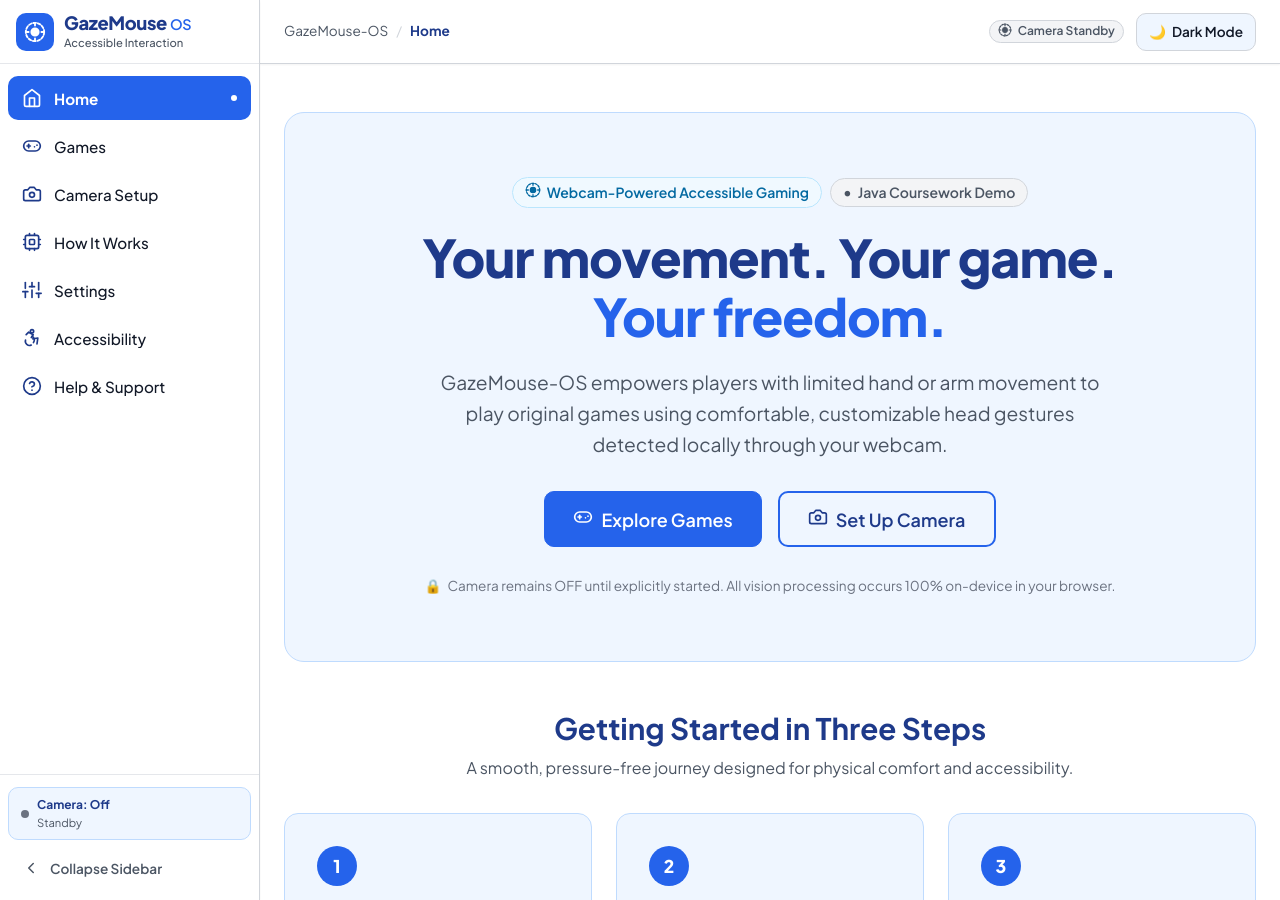
Test: Navigation and Page Hierarchy › navigates to Help & Support page and displays troubleshooting FAQs
Click the button "Help & Support": (130, 386) [8,364,251,408]
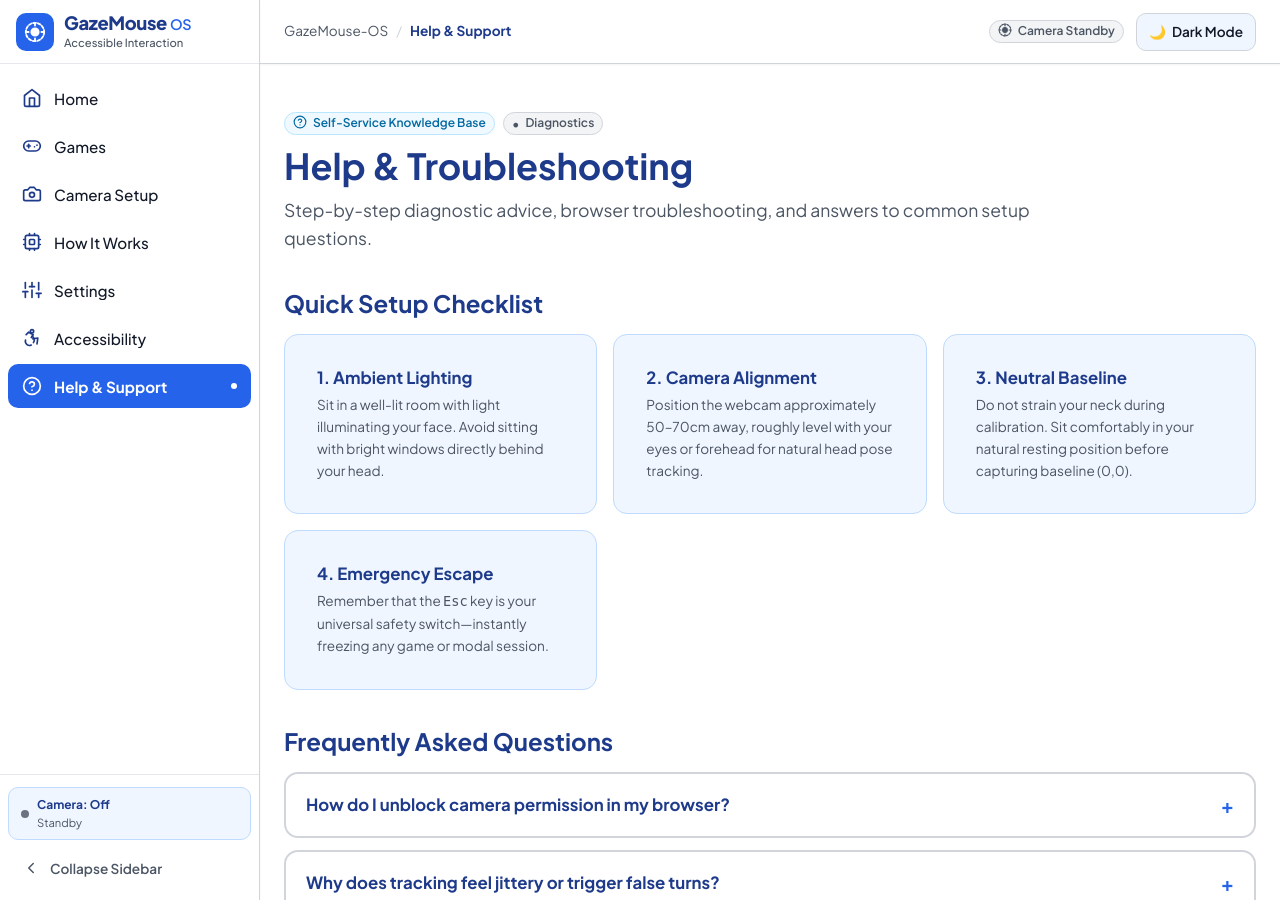
Result: the heading "Help & Troubleshooting" is shown at [284,143,693,188]
Result: the heading "Quick Setup Checklist" is shown at [284,288,543,318]
Result: the heading "Frequently Asked Questions" is shown at [284,726,613,756]
